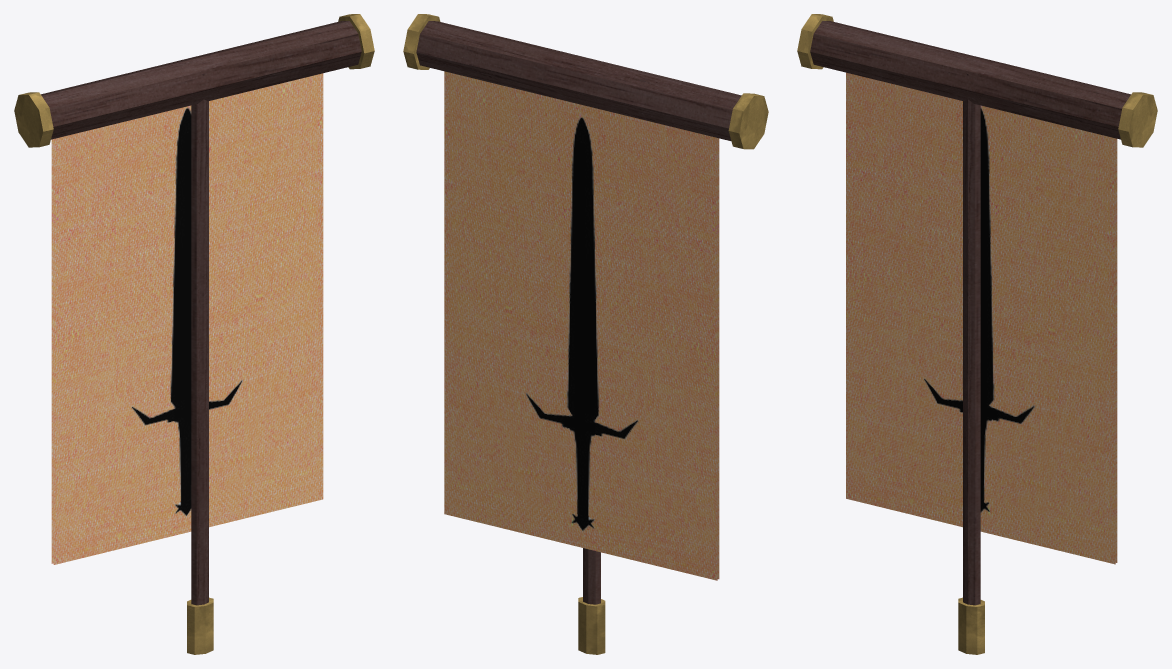
Rendered from flag_Deg_GEO_01.fbx.
The picture shows the model from 3 angles, left to right: view 1: azimuth 30°, elevation 25°; view 2: azimuth 150°, elevation 25°; view 3: azimuth 330°, elevation 25°; orthographic projection.
Parts seen in each view (by area): view 1: flag_GEO_01; view 2: flag_GEO_01; view 3: flag_GEO_01.
Part boxes in pixels (x1=…): flag_GEO_01: x1=14, y1=14, x2=374, y2=654; flag_GEO_01: x1=403, y1=14, x2=768, y2=654; flag_GEO_01: x1=797, y1=14, x2=1157, y2=654.
Bounding box in the file's own units: 1.58 × 2.69 × 0.24.
Materials: 4 (3 with a texture image).
